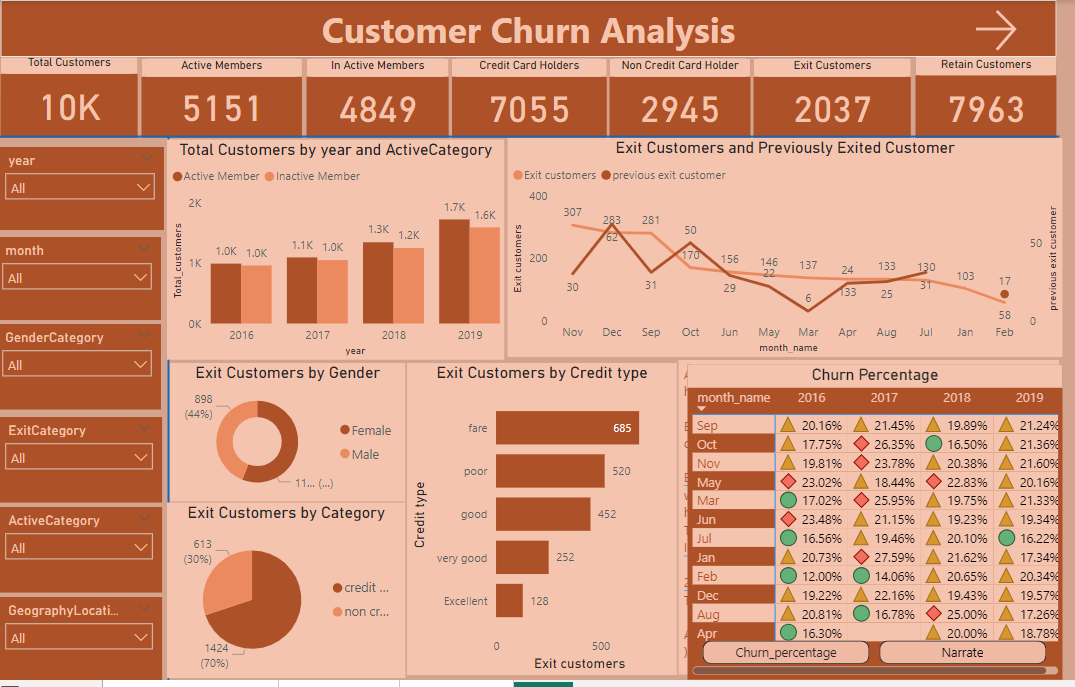

The page's visual inventory and layout, read from the dashboard file:
{"tool":"powerbi","page":{"name":"churn analysis","canvas":[1280,720],"ordinal":0},"visuals":[{"type":"card","title":"Total Customers","fields":{"Values":["Calc_Table.Total_customers"]},"box":[37.2,58.2,145.6,87.4],"z":0},{"type":"card","title":"Active Members","fields":{"Values":["Calc_Table.active_member"]},"box":[186.1,61.5,169.9,84.1],"z":1000},{"type":"card","title":"In Active Members","fields":{"Values":["Calc_Table.Inactive_member"]},"box":[360.8,62,151,84.2],"z":2000},{"type":"card","title":"Credit Card Holders","fields":{"Values":["Calc_Table.credit_card_holders"]},"box":[515,62,163.7,84.2],"z":3000},{"type":"textbox","box":[36.6,0,1118.9,60.4],"z":4000},{"type":"card","title":"Non Credit  Card Holder","fields":{"Values":["Calc_Table.Non_credit_card"]},"box":[681.9,62,149.4,84.2],"z":5000},{"type":"card","title":"Retain Customers","fields":{"Values":["Calc_Table.Retain customers"]},"box":[1006.1,60.4,149.4,87.4],"z":6000},{"type":"card","title":"Exit Customers","fields":{"Values":["Calc_Table.Exit customers"]},"box":[834.4,62,166.9,84.2],"z":7000},{"type":"actionButton","box":[0,0,100,40],"z":8000},{"type":"shape","box":[31.8,141.5,1126.9,6.4],"z":9000},{"type":"shape","box":[208.8,144.3,12.7,575.7],"z":10000},{"type":"slicer","fields":{"Values":["datemaster.year"]},"box":[31,155,178.3,87.9],"z":11000},{"type":"slicer","fields":{"Values":["datemaster.month"]},"box":[28.4,250.7,178.3,87.9],"z":12000},{"type":"slicer","fields":{"Values":["Gender.GenderCategory"]},"box":[28.4,343.7,178.3,90.4],"z":13000},{"type":"slicer","fields":{"Values":["Exit_cust.ExitCategory"]},"box":[31,441.9,175.7,90.4],"z":14000},{"type":"slicer","fields":{"Values":["active_cust.ActiveCategory"]},"box":[31,537.5,175.7,90.4],"z":15000},{"type":"slicer","fields":{"Values":["Geography.GeographyLocation"]},"box":[31,633.1,175.7,87.9],"z":16000},{"type":"clusteredColumnChart","title":"Total Customers by year and ActiveCategory","fields":{"Y":["Calc_Table.Total_customers"],"Category":["datemaster.year","datemaster.month_name"],"Series":["active_cust.ActiveCategory"]},"box":[211.1,150.1,357.9,232.6],"z":17000},{"type":"lineChart","title":"Exit Customers and Previously Exited Customer ","fields":{"Y":["Calc_Table.Exit customers"],"Category":["datemaster.month_name"],"Y2":["Calc_Table.previous exit customer"]},"box":[574,145.2,579,232.6],"z":18000},{"type":"donutChart","title":"Exit Customers by Gender","fields":{"Category":["Gender.GenderCategory"],"Y":["Calc_Table.Exit customers"]},"box":[216.2,384.7,249.2,146.6],"z":19000},{"type":"barChart","title":"Exit Customers by Credit type","fields":{"Y":["Calc_Table.Exit customers"],"Category":["Bank_Churn.Credit type"]},"box":[467.3,384.6,286.1,330.6],"z":20000},{"type":"pieChart","title":"Exit Customers by Category","fields":{"Category":["Credit_card.Category"],"Y":["Calc_Table.Exit customers"]},"box":[213,532.5,252.7,186],"z":21000},{"type":"textbox","box":[754.8,381.1,403.1,333.4],"z":22000},{"type":"actionButton","box":[1062.6,4.1,93.5,54.9],"z":23000},{"type":"pivotTable","title":"Churn Percentage","fields":{"Columns":["datemaster.year"],"Values":["Calc_Table.churn %"],"Rows":["datemaster.month_name"]},"box":[753.4,381.5,403.7,333.8],"z":24000},{"type":"bookmarkNavigator","box":[756.6,686.6,397.4,25.4],"z":25000}]}

Visuals, with their boxes on the page's 1280x720 design canvas (x1, y1, x2, y2). These are canvas units, not pixel positions in the 1075x687 screenshot, which may show the page scaled, cropped or inside an application window:
"Total Customers" card: region(37, 58, 183, 146)
"Active Members" card: region(186, 62, 356, 146)
"In Active Members" card: region(361, 62, 512, 146)
"Credit Card Holders" card: region(515, 62, 679, 146)
textbox: region(37, 0, 1156, 60)
"Non Credit  Card Holder" card: region(682, 62, 831, 146)
"Retain Customers" card: region(1006, 60, 1156, 148)
"Exit Customers" card: region(834, 62, 1001, 146)
actionButton: region(0, 0, 100, 40)
shape: region(32, 142, 1159, 148)
shape: region(209, 144, 222, 720)
slicer - datemaster.year: region(31, 155, 209, 243)
slicer - datemaster.month: region(28, 251, 207, 339)
slicer - Gender.GenderCategory: region(28, 344, 207, 434)
slicer - Exit_cust.ExitCategory: region(31, 442, 207, 532)
slicer - active_cust.ActiveCategory: region(31, 538, 207, 628)
slicer - Geography.GeographyLocation: region(31, 633, 207, 721)
"Total Customers by year and ActiveCategory" clusteredColumnChart: region(211, 150, 569, 383)
"Exit Customers and Previously Exited Customer " lineChart: region(574, 145, 1153, 378)
"Exit Customers by Gender" donutChart: region(216, 385, 465, 531)
"Exit Customers by Credit type" barChart: region(467, 385, 753, 715)
"Exit Customers by Category" pieChart: region(213, 532, 466, 718)
textbox: region(755, 381, 1158, 714)
actionButton: region(1063, 4, 1156, 59)
"Churn Percentage" pivotTable: region(753, 382, 1157, 715)
bookmarkNavigator: region(757, 687, 1154, 712)
